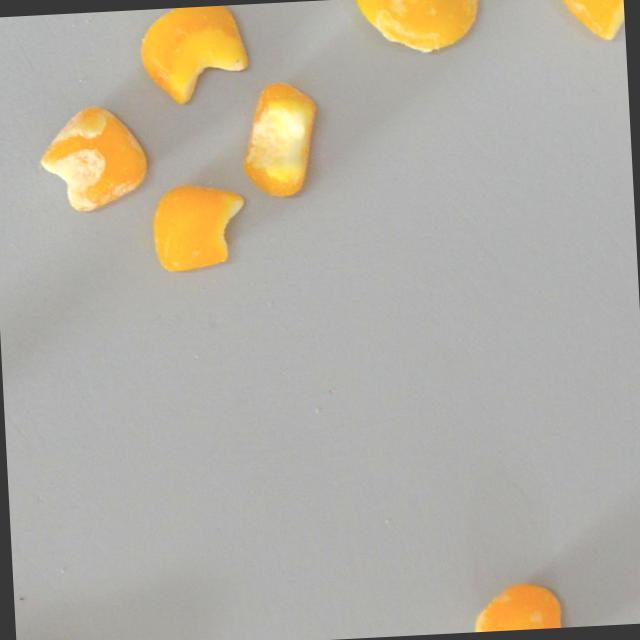no_canjicado: (132, 3, 254, 105), (238, 79, 321, 200), (150, 181, 248, 272), (467, 579, 569, 633)
pelicula: (37, 102, 149, 211), (349, 0, 481, 55), (555, 0, 626, 42)
